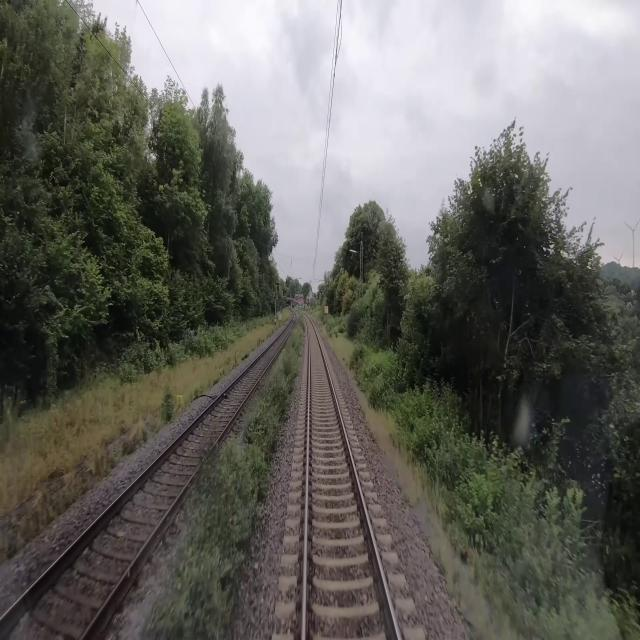Plant: (159, 318, 304, 639)
